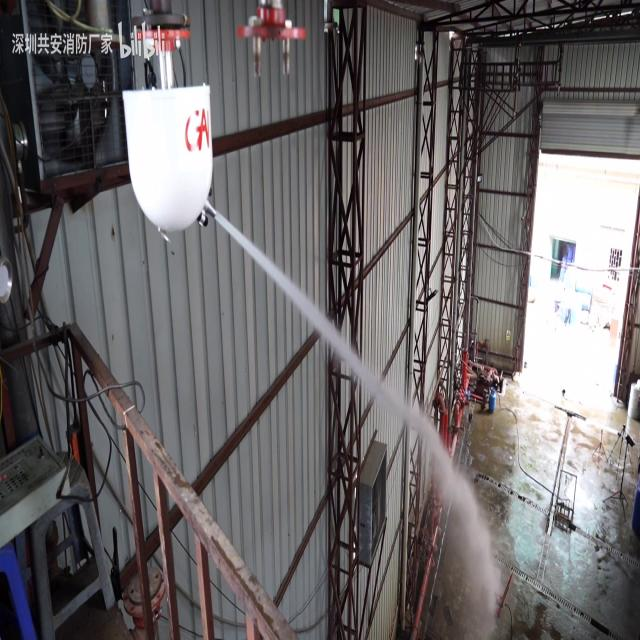leak: (214, 209, 503, 639)
